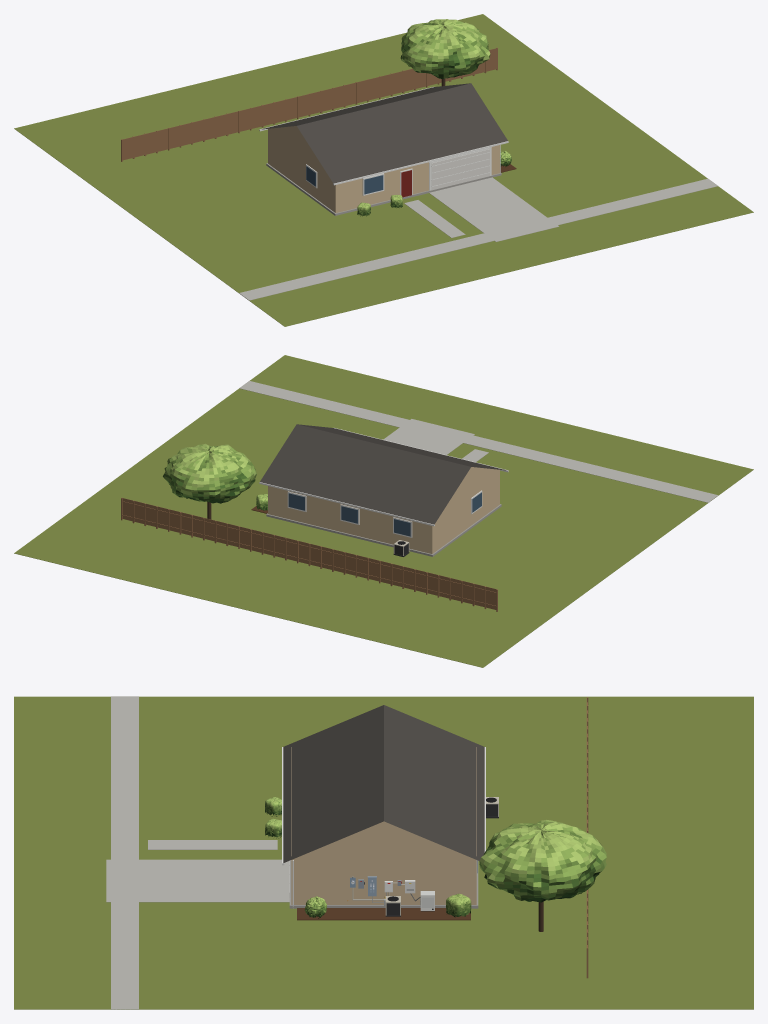
The model's file is home_08_post_install.obj.
The picture shows the model from 3 angles, top to bottom: view 1: azimuth 30°, elevation 25°; view 2: azimuth 150°, elevation 25°; view 3: azimuth 270°, elevation 25°; orthographic projection. The views are drawn at different scales.
Visible parts, largest first — view 1: yard, house, tree_1; view 2: yard, house, tree_1; view 3: yard, house, tree_1, mulch_bed_side.
Part boxes in pixels (x1=…): yard: x1=14, y1=14, x2=753, y2=326; house: x1=259, y1=83, x2=508, y2=215; tree_1: x1=400, y1=19, x2=490, y2=86; yard: x1=14, y1=355, x2=753, y2=667; house: x1=259, y1=424, x2=508, y2=556; tree_1: x1=163, y1=443, x2=256, y2=519; yard: x1=14, y1=696, x2=753, y2=1009; house: x1=282, y1=705, x2=485, y2=908; tree_1: x1=479, y1=820, x2=606, y2=931; mulch_bed_side: x1=297, y1=908, x2=470, y2=920.
Size of the model in its own units: 40 by 6.12 by 40.
